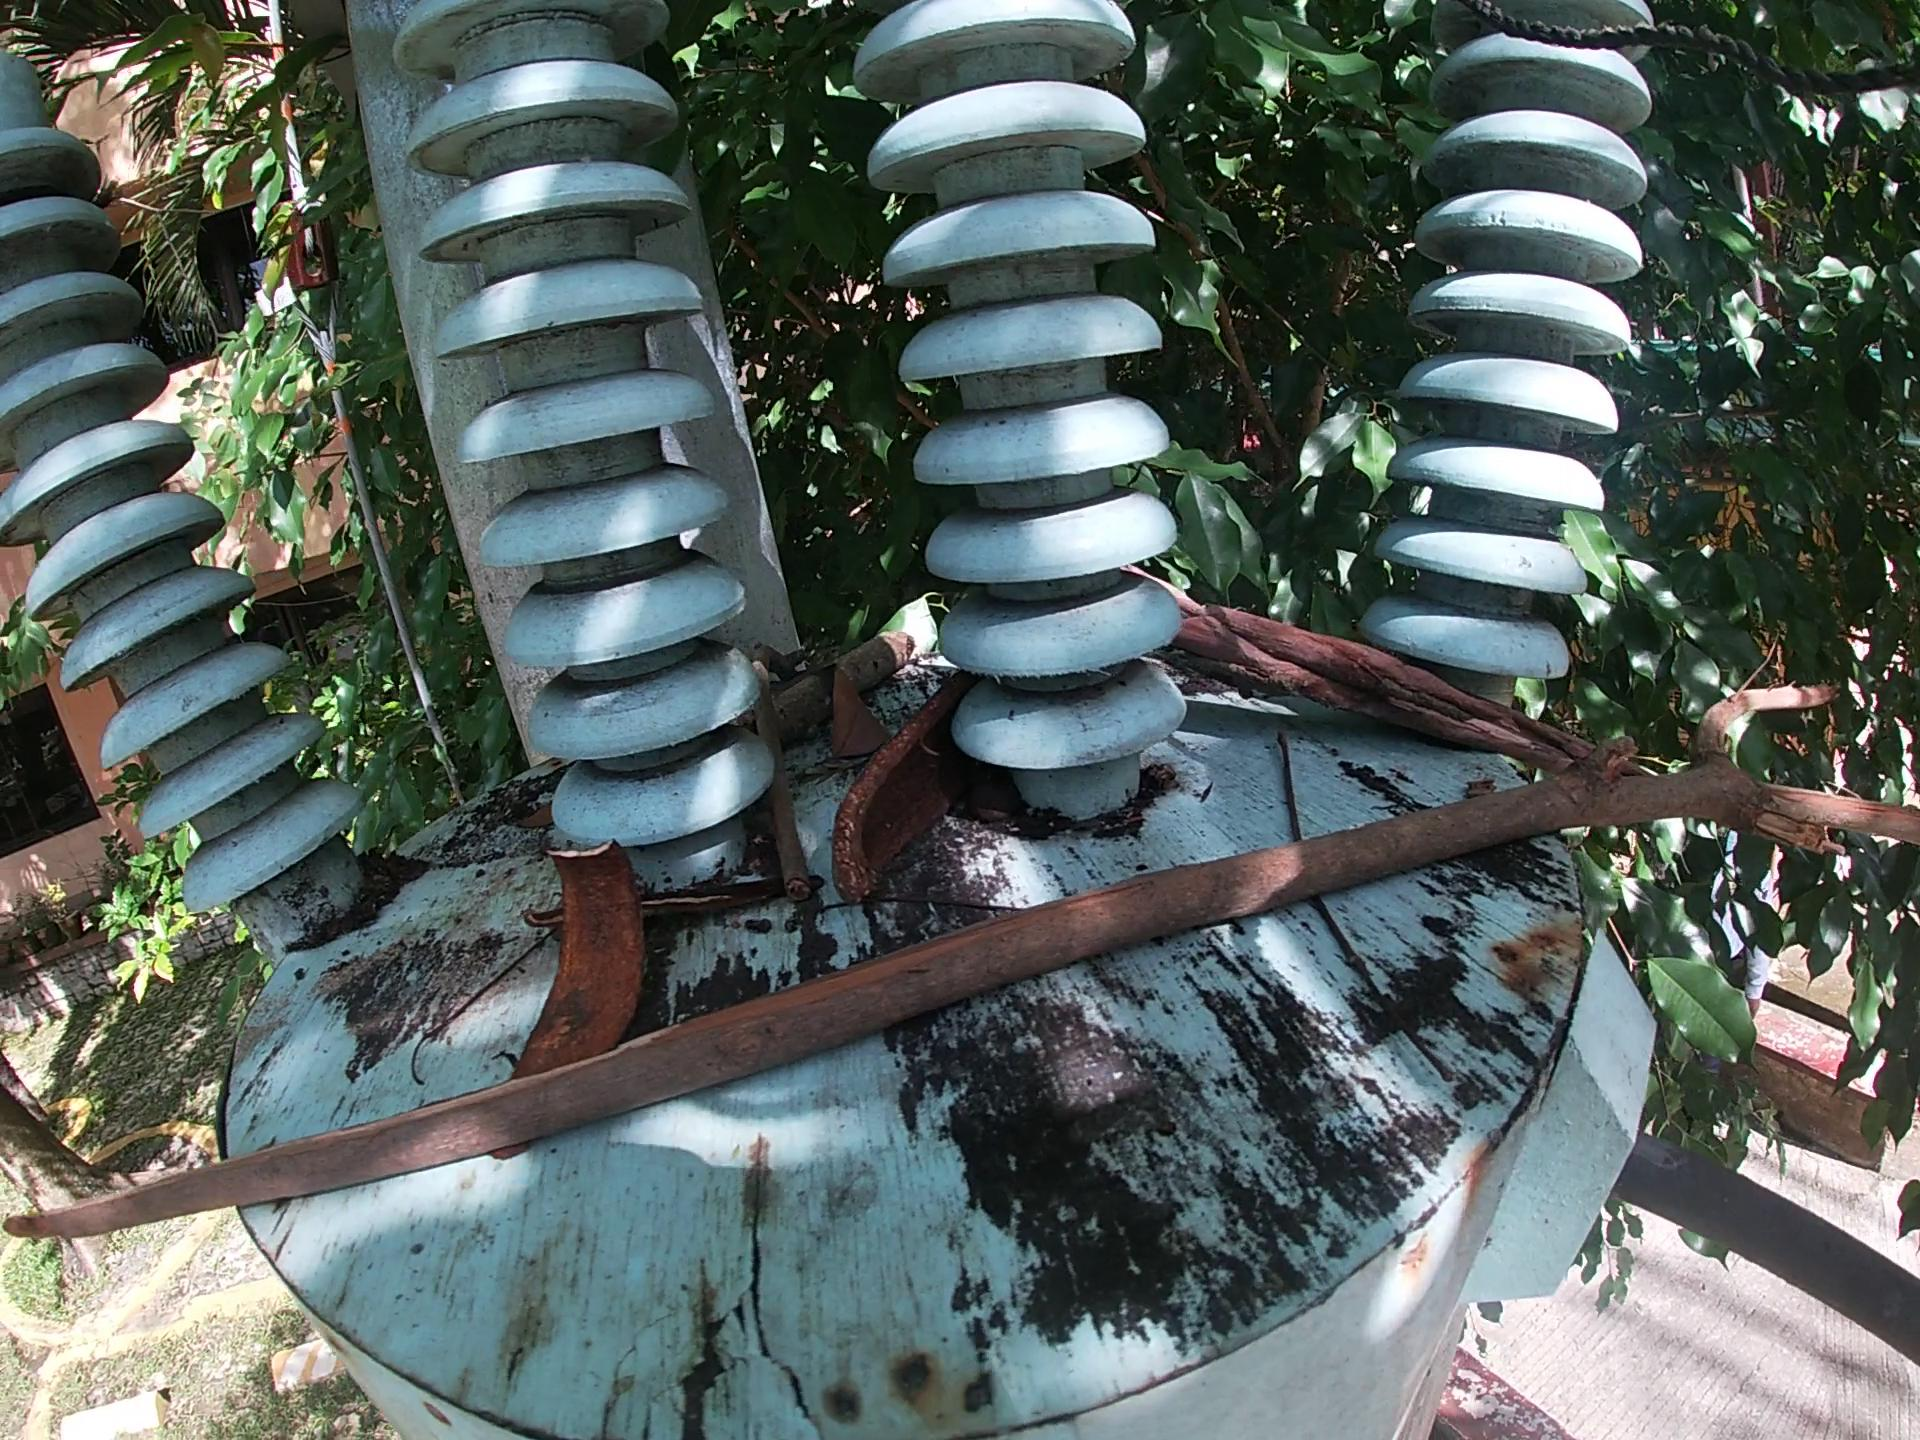leaf: (809, 673, 913, 767), (519, 800, 553, 839)
mahogany fruit: (502, 818, 662, 1078), (816, 679, 986, 895)
tree branch: (5, 681, 1920, 1278), (1123, 561, 1596, 777), (1315, 889, 1488, 1103), (739, 634, 824, 926), (735, 634, 915, 753), (417, 917, 540, 1089), (801, 889, 1045, 932), (1255, 709, 1329, 839), (636, 889, 774, 917), (487, 895, 562, 926)
